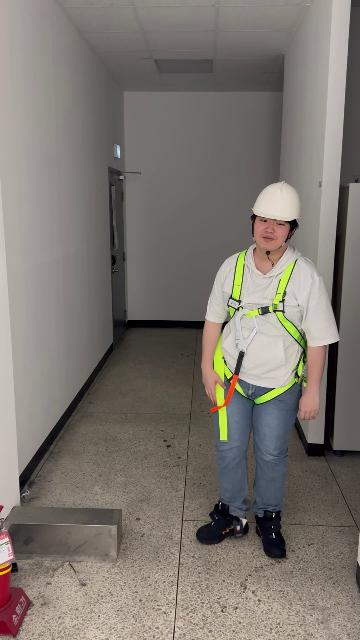helmet_worn: (250, 180, 304, 222)
shoe_worn: (196, 501, 248, 543), (255, 510, 286, 558)
vest_worn: (214, 255, 310, 426)
